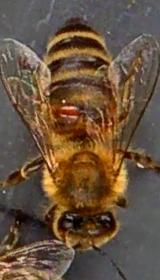varroa_mite: (52, 96, 86, 130)
